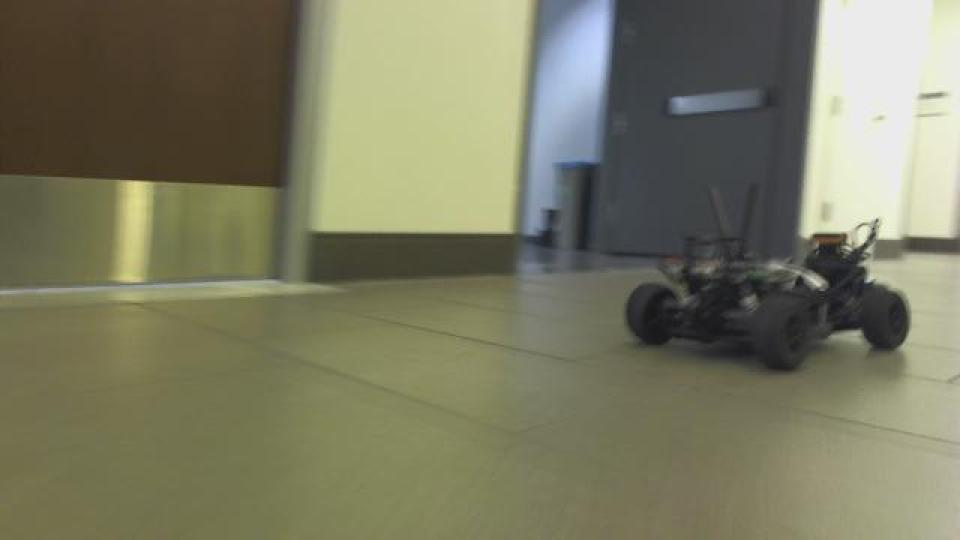car: (621, 183, 913, 373)
